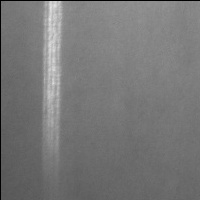scratches: (40, 2, 66, 164)
